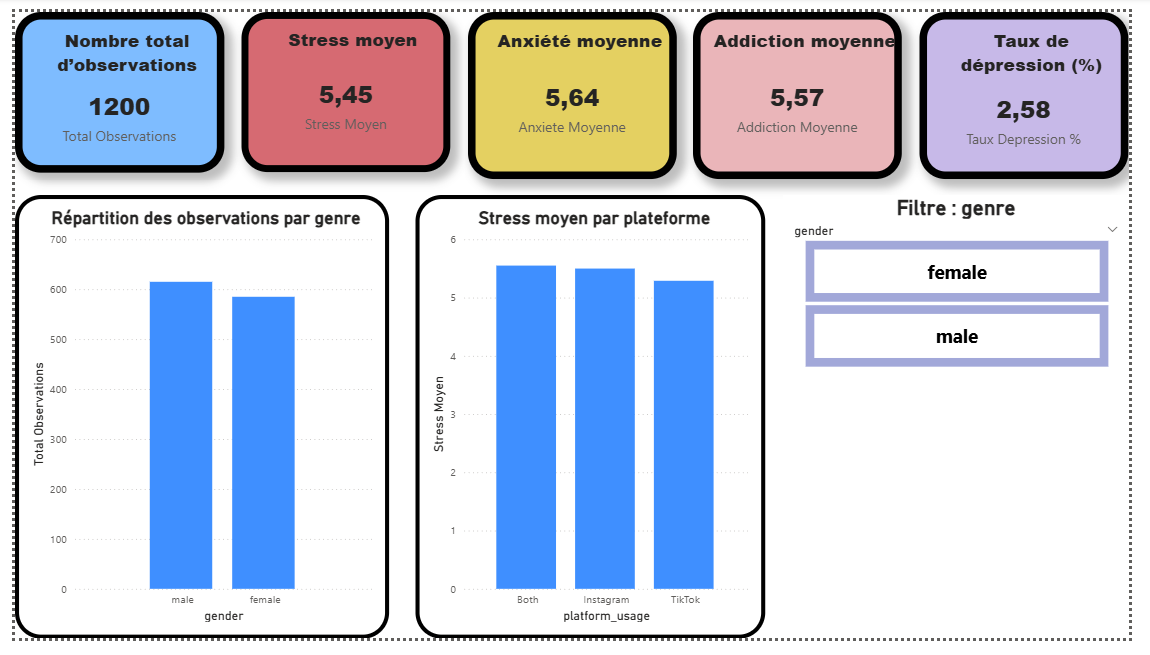

This screenshot's page, from the dashboard's own definition file:
{"tool":"powerbi","page":{"name":"Vue d’ensemble","canvas":[1280,720],"ordinal":0},"visuals":[{"type":"card","title":"Nombre total d’observations","fields":{"Values":["public fait_sante_mentale.Total Observations"]},"box":[0,0,240.5,185],"z":0},{"type":"card","title":"Stress moyen","fields":{"Values":["public fait_sante_mentale.Stress Moyen"]},"box":[260,0,240,184],"z":1000},{"type":"card","title":"Anxiété moyenne","fields":{"Values":["public fait_sante_mentale.Anxiete Moyenne"]},"box":[520,0,240,192],"z":2000},{"type":"card","title":"Taux de dépression (%)","fields":{"Values":["public fait_sante_mentale.Taux Depression %"]},"box":[1040,0,240,192],"z":3000},{"type":"card","title":"Addiction moyenne","fields":{"Values":["public fait_sante_mentale.Addiction Moyenne"]},"box":[780,0,240,192],"z":4000},{"type":"columnChart","title":"Répartition des observations par genre","fields":{"Category":["public dim_gender.gender"],"Y":["public fait_sante_mentale.Total Observations"]},"box":[0,210,430,510],"z":5000},{"type":"columnChart","title":"Stress moyen par plateforme","fields":{"Category":["public dim_platform.platform_usage"],"Y":["public fait_sante_mentale.Stress Moyen"]},"box":[460,210,402,510],"z":6000},{"type":"slicer","title":"Filtre : genre","fields":{"Values":["public dim_gender.gender"]},"box":[882,210,398,204],"z":7000}]}

Visuals, with their boxes in screenshot pixels (x1, y1, x2, y2), scaled from the page's 1280x720 canvas onto the 1150x655 screenshot:
"Nombre total d’observations" card: [x1=0, y1=0, x2=216, y2=168]
"Stress moyen" card: [x1=234, y1=0, x2=449, y2=167]
"Anxiété moyenne" card: [x1=467, y1=0, x2=683, y2=175]
"Taux de dépression (%)" card: [x1=934, y1=0, x2=1149, y2=175]
"Addiction moyenne" card: [x1=701, y1=0, x2=916, y2=175]
"Répartition des observations par genre" columnChart: [x1=0, y1=191, x2=386, y2=654]
"Stress moyen par plateforme" columnChart: [x1=413, y1=191, x2=774, y2=654]
"Filtre : genre" slicer: [x1=792, y1=191, x2=1149, y2=377]
